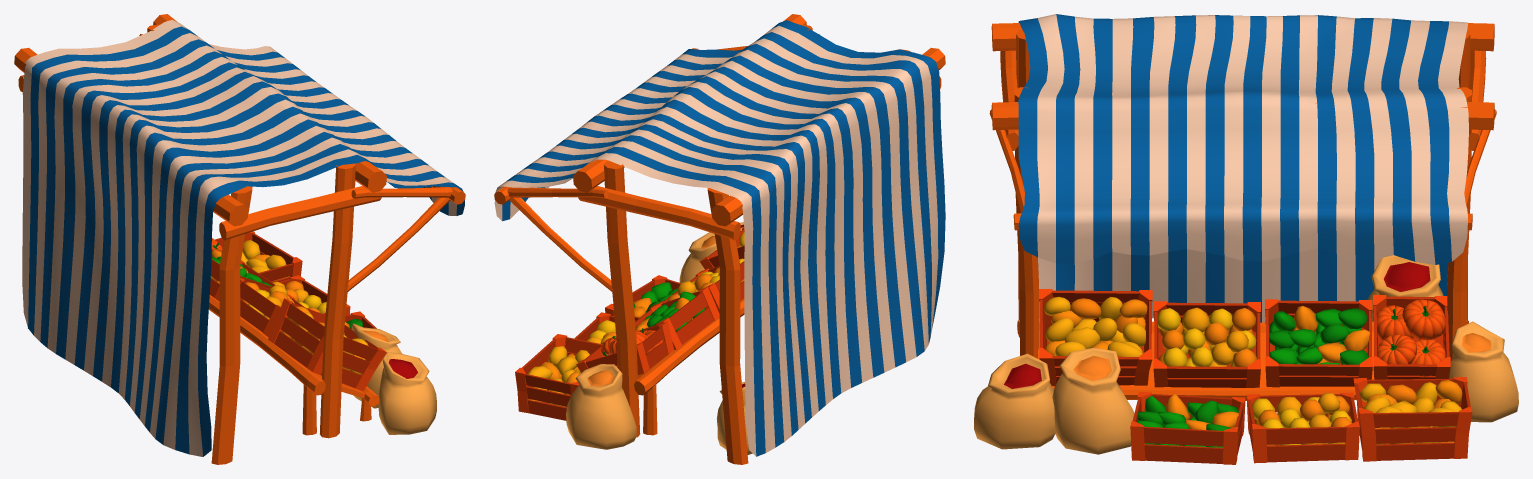
The model's file is marketstall3.glb.
The picture shows the model from 3 angles, left to right: view 1: azimuth 30°, elevation 25°; view 2: azimuth 150°, elevation 25°; view 3: azimuth 270°, elevation 25°; orthographic projection. The views are drawn at different scales.
Visible parts, largest first — view 1: MarketStall3_Medieval_0; view 2: MarketStall3_Medieval_0; view 3: MarketStall3_Medieval_0.
Part boxes in pixels (x1,y1,x2,y2): MarketStall3_Medieval_0: [14, 14, 465, 464]; MarketStall3_Medieval_0: [494, 14, 945, 464]; MarketStall3_Medieval_0: [974, 14, 1518, 464].
Size of the model in its own units: 1.82 by 1.78 by 2.72.
Materials: 1 (1 with a texture image).
